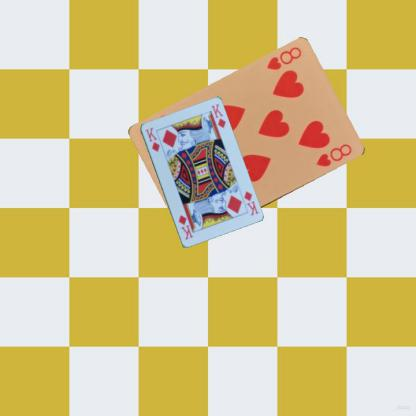8h: (263, 44, 303, 72)
Kd: (241, 188, 259, 217), (142, 125, 160, 153)
